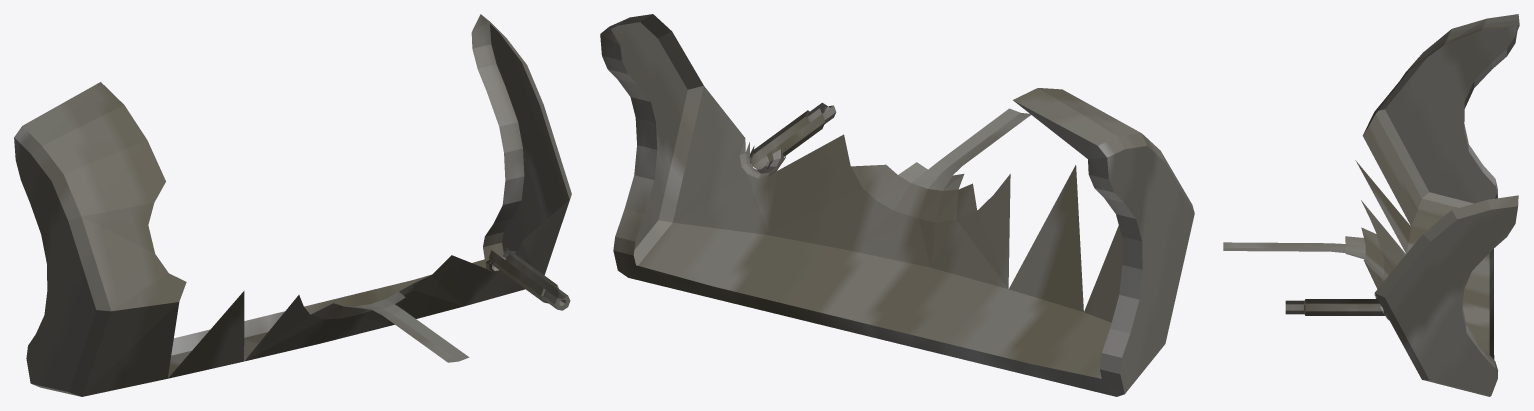
Rendered from chaffee_hull_m2.obj.
3 renders of one model, left to right at view 1: azimuth 30°, elevation 25°; view 2: azimuth 150°, elevation 25°; view 3: azimuth 270°, elevation 25°, orthographic. The views are drawn at different scales.
Parts seen in each view (by area): view 1: chaffee_hull_m2; view 2: chaffee_hull_m2; view 3: chaffee_hull_m2.
Boxes of the visible parts, x1,y1,x2,y2 form: chaffee_hull_m2: (14,14,571,396); chaffee_hull_m2: (600,14,1194,396); chaffee_hull_m2: (1223,14,1519,396).
Size of the model in its own units: 0.8542 by 0.4683 by 0.569.
1 material, 1 textured.
